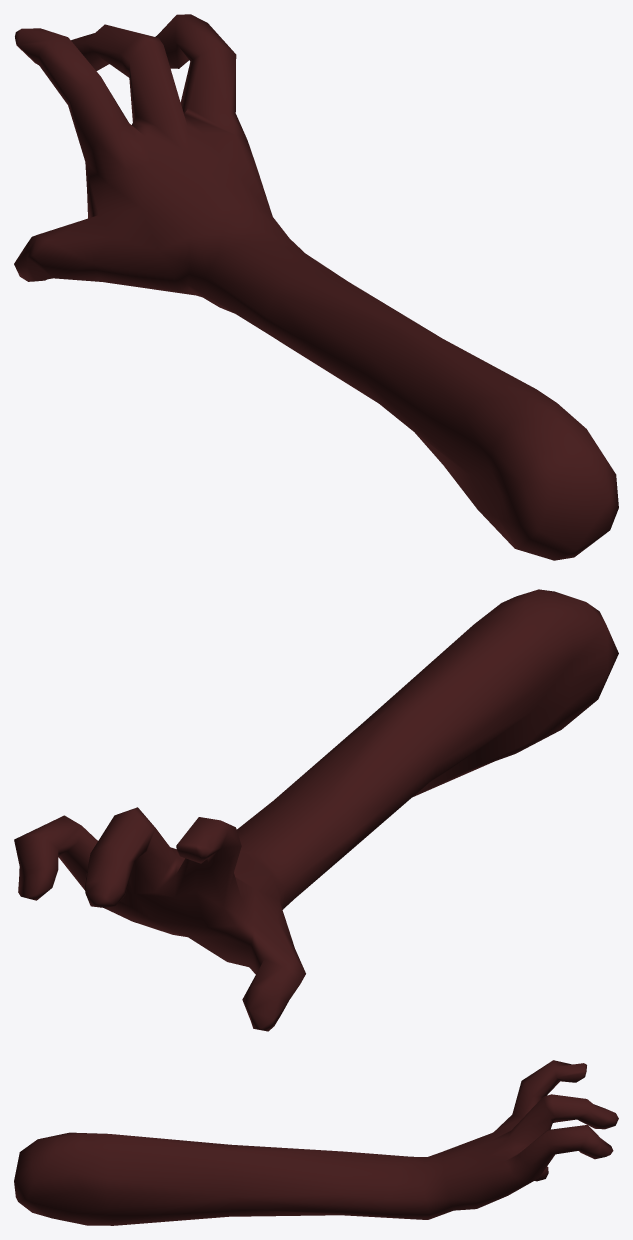
File: Agent_Handheld_Red.fbx
The picture shows the model from 3 angles, top to bottom: view 1: azimuth 30°, elevation 25°; view 2: azimuth 150°, elevation 25°; view 3: azimuth 270°, elevation 25°; orthographic projection. The views are drawn at different scales.
Parts seen in each view (by area): view 1: WPN_DryHand; view 2: WPN_DryHand; view 3: WPN_DryHand.
Part boxes in pixels (x1,y1,x2,y2): WPN_DryHand: (14,14,618,560); WPN_DryHand: (14,589,618,1031); WPN_DryHand: (14,1060,618,1225).
Bounding box in the file's own units: 0.2826 × 0.26 × 1.05.
Materials: 1 (1 with a texture image).
